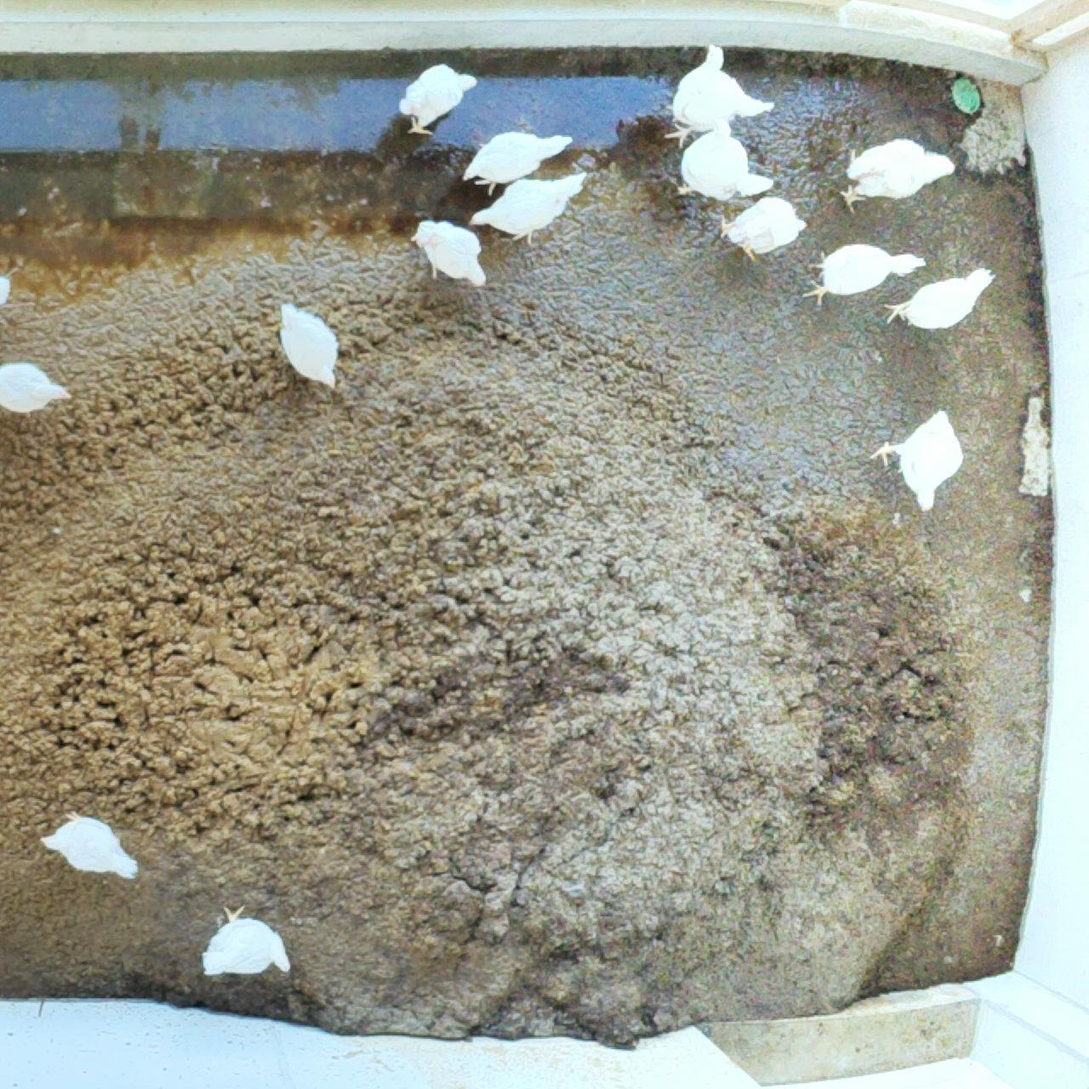chicken: (668, 44, 777, 145), (870, 408, 966, 512), (842, 136, 957, 211), (470, 173, 587, 245), (807, 242, 927, 309), (675, 122, 776, 200), (461, 130, 574, 193), (40, 810, 138, 882), (883, 266, 993, 330), (202, 906, 291, 977), (717, 194, 808, 262), (394, 68, 476, 134), (410, 219, 487, 289), (277, 304, 339, 390), (1, 362, 72, 413), (1, 274, 11, 306)
